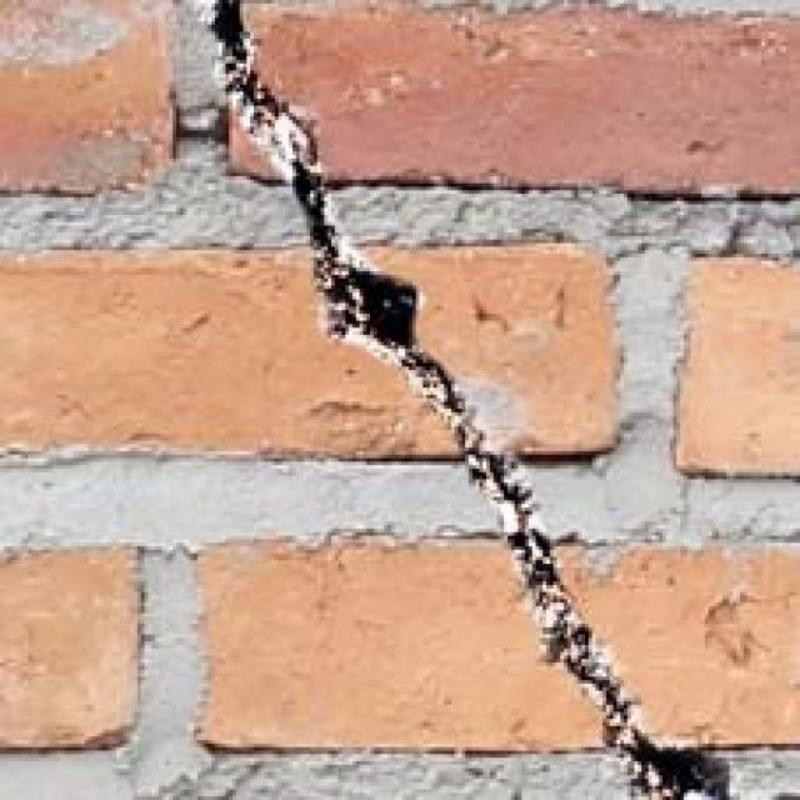crack: (212, 0, 731, 799), (171, 101, 229, 160)
